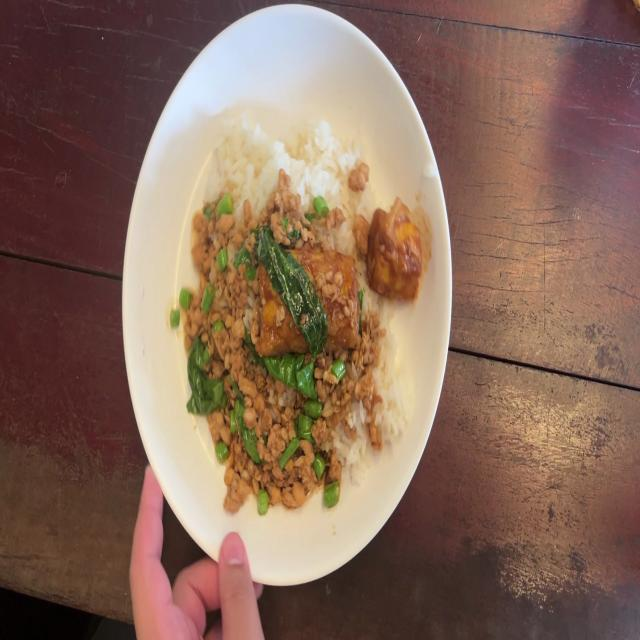01rice: (208, 112, 344, 205), (383, 325, 416, 441), (343, 415, 368, 477)
fried_tofo: (258, 250, 360, 354), (375, 211, 419, 291)
minced_pork: (185, 254, 259, 511), (255, 353, 362, 509), (186, 197, 337, 263), (360, 311, 380, 441)
stir_fried_basil: (185, 126, 426, 512)
